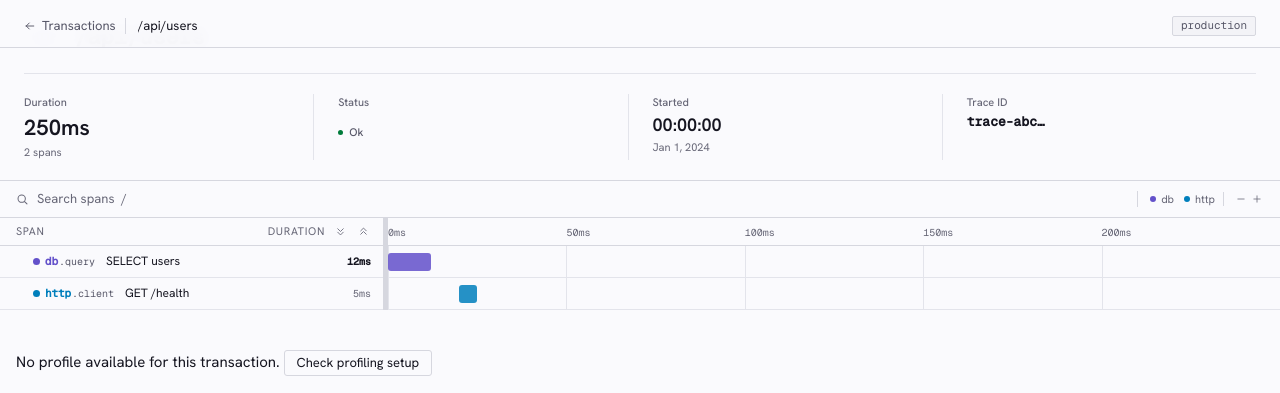
Test case: TransactionDetailView › span search › shows no-match message when search has no results
Type "nonexistent_span_xyz" into the field with placeholder "Search spans /" at (583, 199), box x1=37 y1=189 x2=1129 y2=209
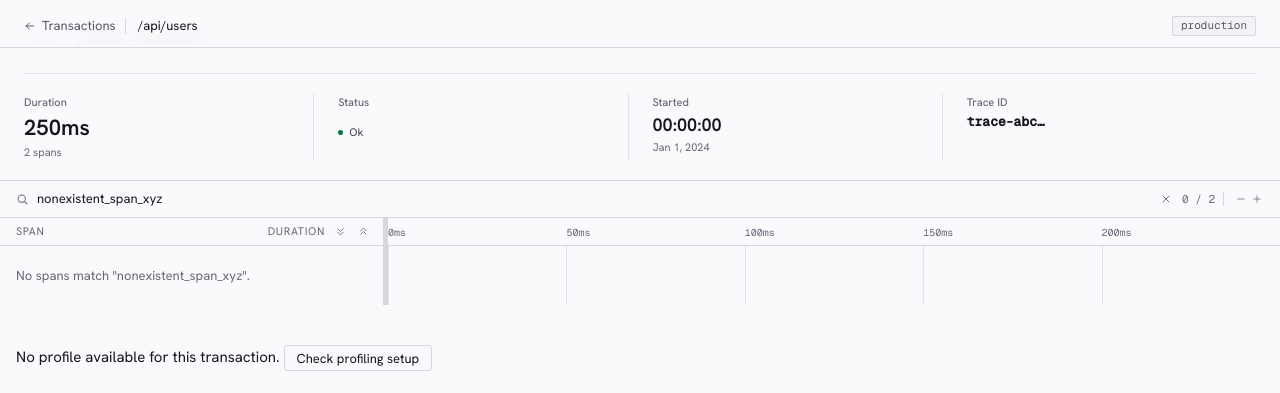
Expected: the text "No spans match" is shown, x1=16 y1=267 x2=250 y2=284
